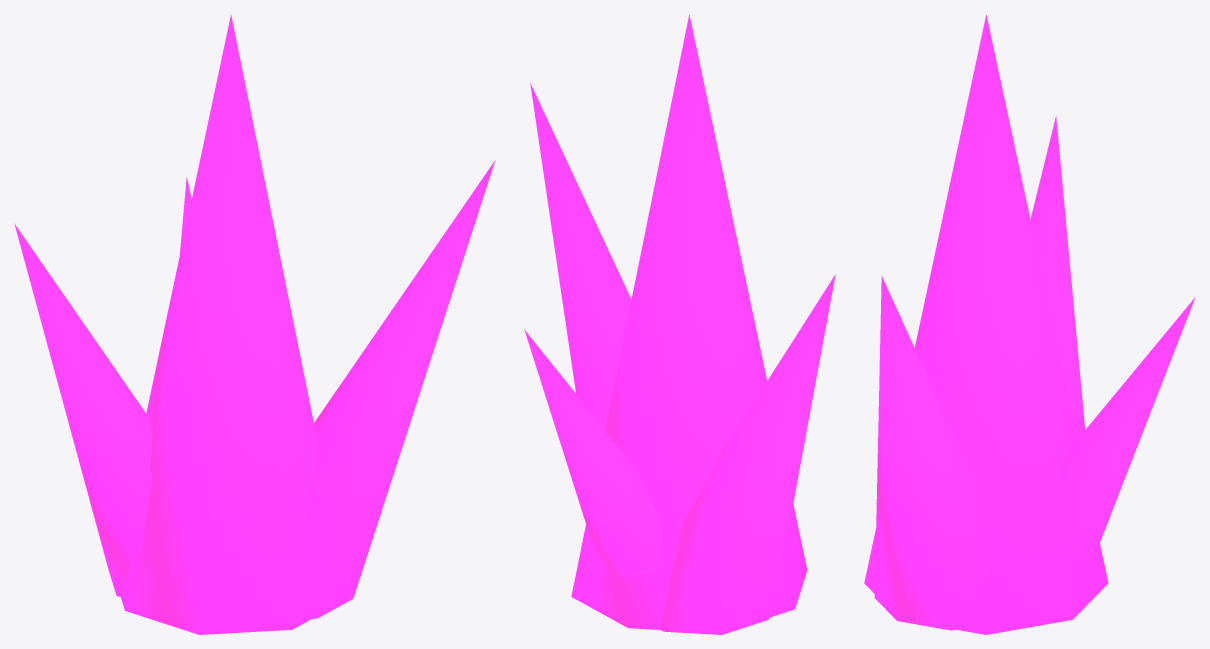
The model's file is hazard_tendril.glb.
3 renders of one model, left to right at view 1: azimuth 30°, elevation 25°; view 2: azimuth 150°, elevation 25°; view 3: azimuth 270°, elevation 25°, orthographic.
Bounding box in the file's own units: 1.3 × 1.8 × 0.95.
